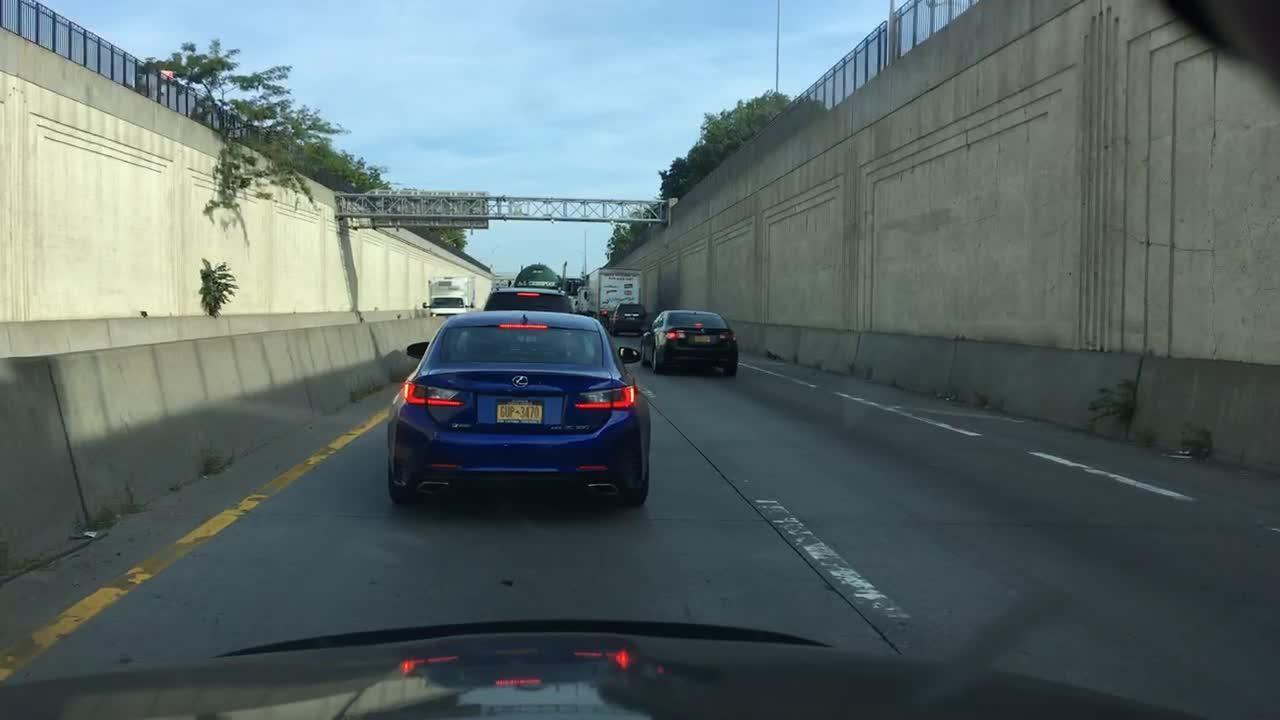lexus: (504, 365, 535, 391)
